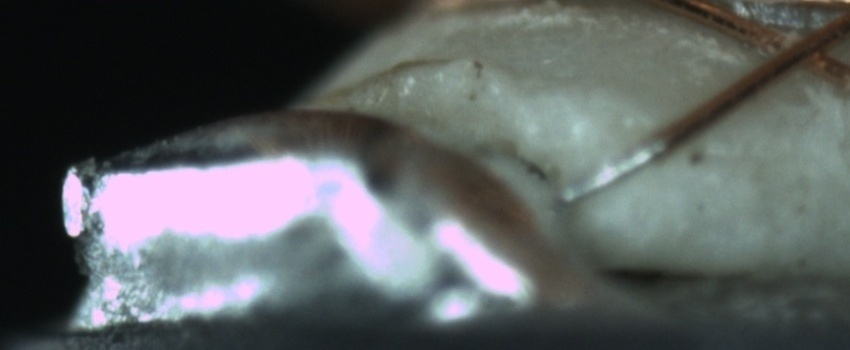CL: (748, 9, 848, 80)
TS: (563, 137, 662, 205)
